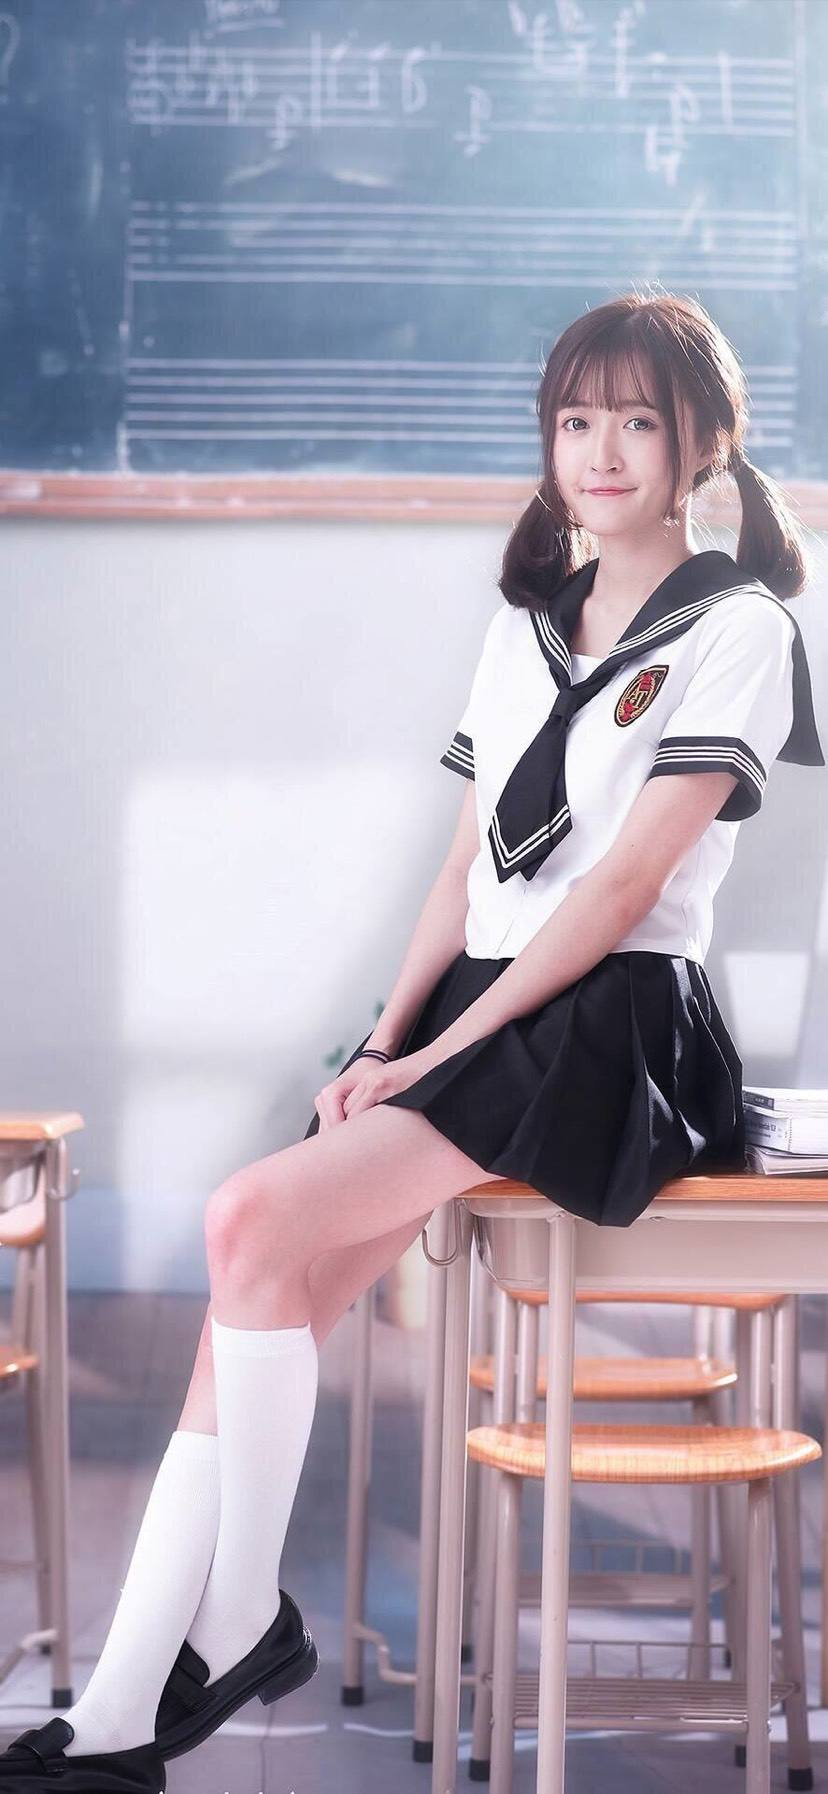person: (80, 248, 828, 1672)
